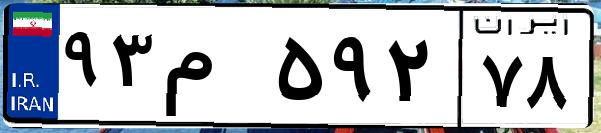2: (385, 28, 445, 110)
3: (110, 28, 158, 98)
5: (270, 28, 330, 110)
7: (475, 38, 525, 113)
8: (525, 38, 570, 115)
9: (330, 28, 385, 110), (57, 26, 110, 100)
م: (158, 20, 270, 120)
